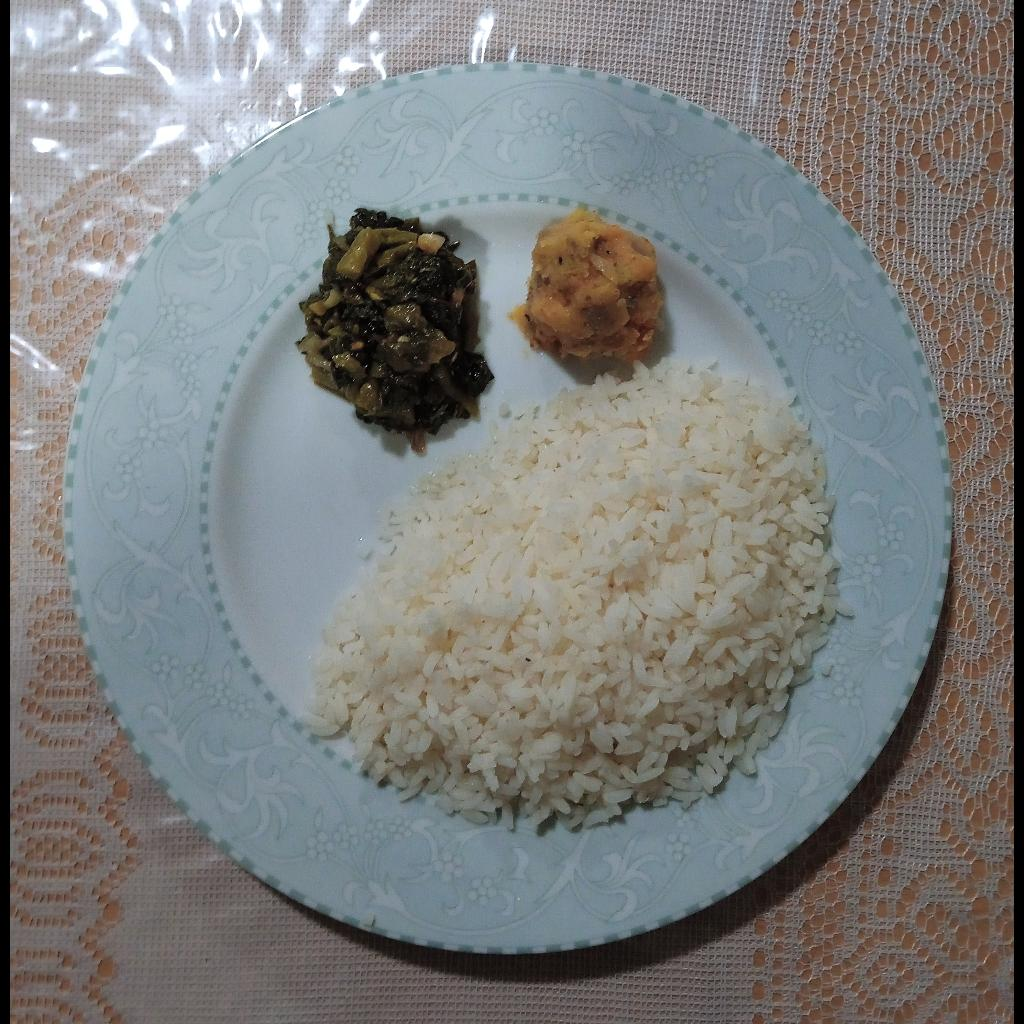potato-mashed: (510, 204, 663, 360)
rice: (302, 364, 842, 831)
shak: (296, 208, 494, 439)
